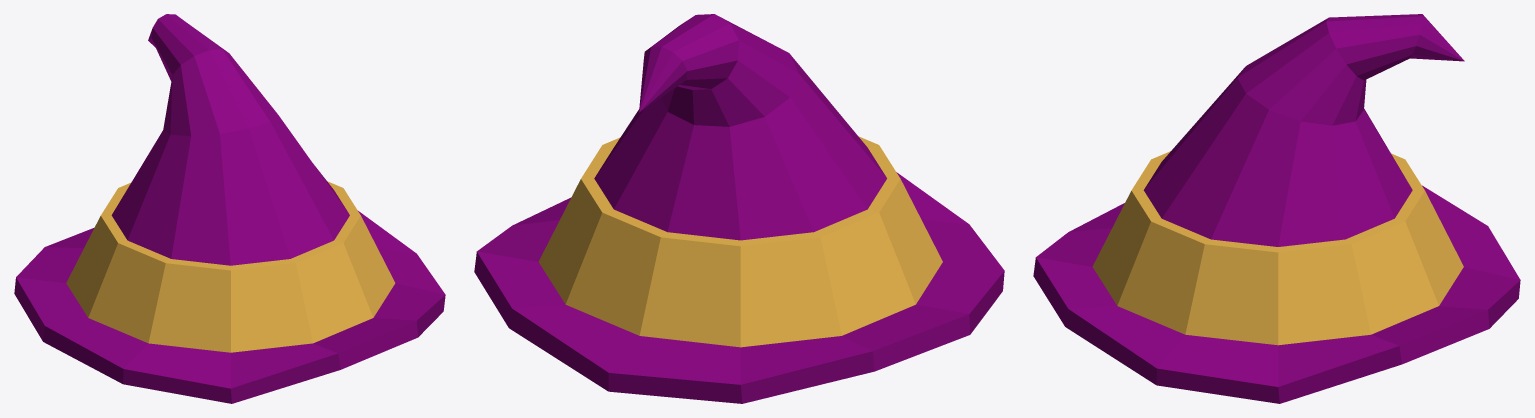
Rendered from wizard_hat.glb.
The picture shows the model from 3 angles, left to right: view 1: azimuth 30°, elevation 25°; view 2: azimuth 150°, elevation 25°; view 3: azimuth 270°, elevation 25°; orthographic projection. The views are drawn at different scales.
Parts seen in each view (by area): view 1: Hat.002_HatsMaterial_0.001; view 2: Hat.002_HatsMaterial_0.001; view 3: Hat.002_HatsMaterial_0.001.
Part boxes in pixels (x1,y1,x2,y2): Hat.002_HatsMaterial_0.001: (14,14,445,403); Hat.002_HatsMaterial_0.001: (474,14,1004,403); Hat.002_HatsMaterial_0.001: (1033,14,1520,403).
Size of the model in its own units: 0.3993 by 0.2596 by 0.4.
Materials: 1 (1 with a texture image).
